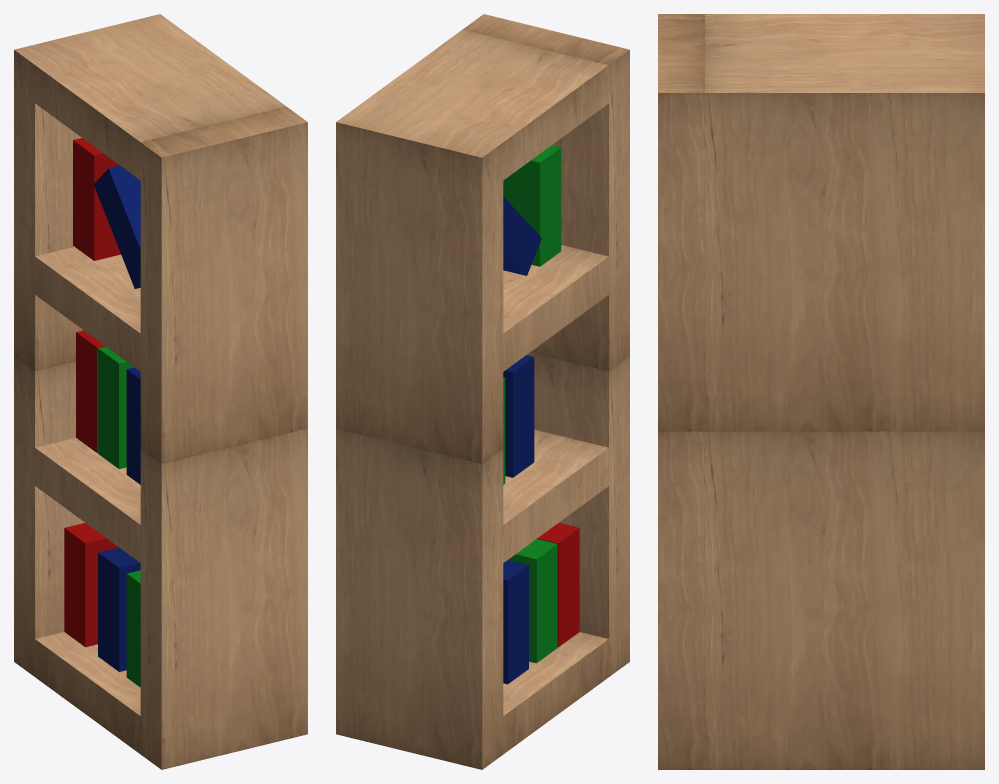
Rendered from Bookcase2.obj.
3 renders of one model, left to right at view 1: azimuth 30°, elevation 25°; view 2: azimuth 150°, elevation 25°; view 3: azimuth 270°, elevation 25°, orthographic. The views are drawn at different scales.
Visible parts, largest first — view 1: block; view 2: block; view 3: block.
Part boxes in pixels (box(x1,y1,x2,y2)): block: box(14, 14, 307, 769); block: box(336, 14, 629, 769); block: box(658, 14, 984, 769).
Size of the model in its own units: 0.5 by 2 by 0.875.
